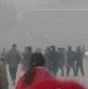person: (18, 52, 57, 89), (6, 43, 20, 84), (74, 46, 88, 78), (64, 45, 77, 77), (21, 45, 34, 72), (47, 44, 57, 74), (55, 47, 65, 77)
